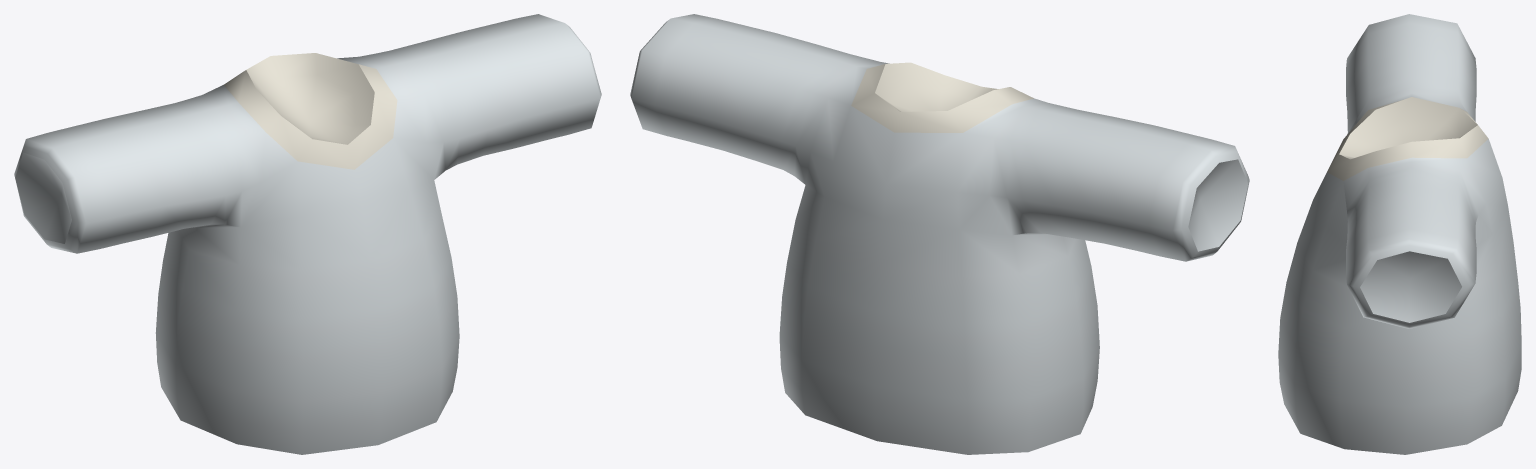
The model's file is Top_08.fbx.
The picture shows the model from 3 angles, left to right: view 1: azimuth 30°, elevation 25°; view 2: azimuth 150°, elevation 25°; view 3: azimuth 270°, elevation 25°; orthographic projection. The views are drawn at different scales.
Parts seen in each view (by area): view 1: Top_08; view 2: Top_08; view 3: Top_08.
Boxes of the visible parts, x1,y1,x2,y2 form: Top_08: (14, 14, 601, 454); Top_08: (630, 14, 1249, 454); Top_08: (1278, 14, 1521, 454).
Size of the model in its own units: 80.71 by 46.22 by 35.79.
